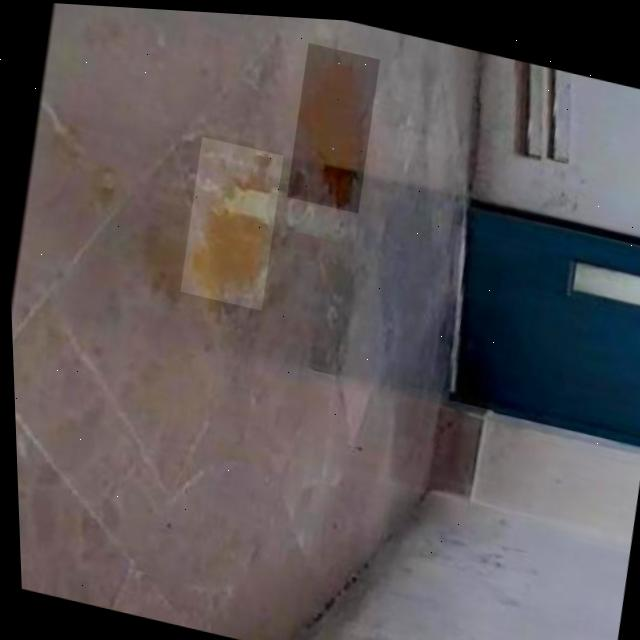spillage: (181, 149, 270, 297), (296, 46, 364, 204)
